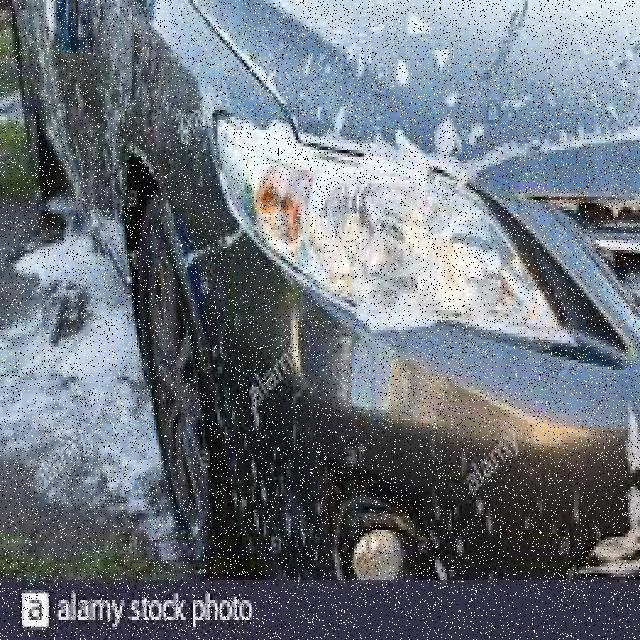car damage: (196, 100, 528, 337)
